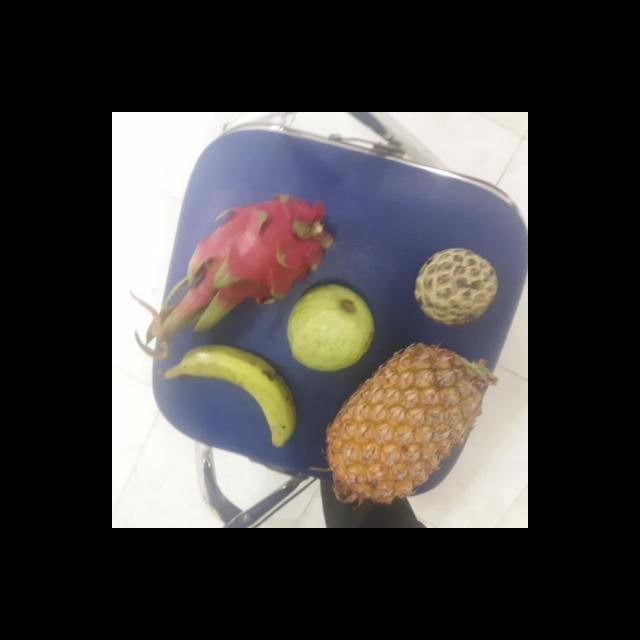Sakya fruit: (412, 247, 498, 324)
guava: (282, 282, 375, 370)
orange: (156, 333, 299, 457)
pineapple: (323, 345, 487, 505)
pitaya: (192, 194, 331, 306)
